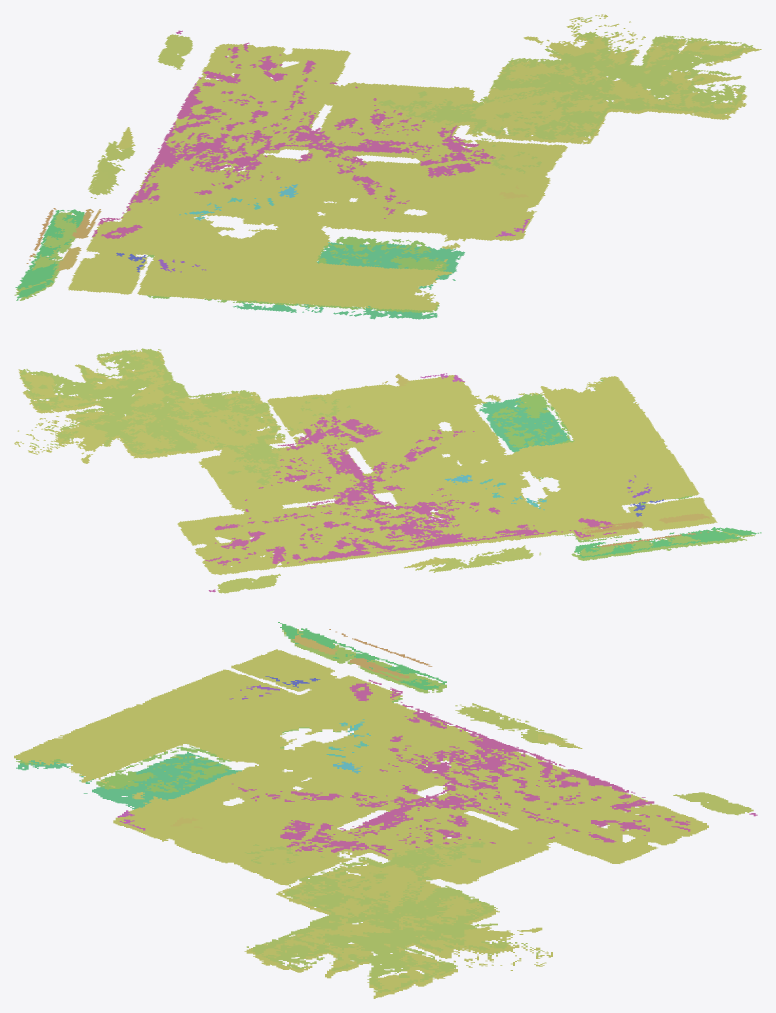
The model's file is jamsil-floor.glb.
3 views of the same model, one above another, from view 1: azimuth 30°, elevation 25°; view 2: azimuth 150°, elevation 25°; view 3: azimuth 270°, elevation 25° (orthographic). The views are drawn at different scales.
Parts seen in each view (by area): view 1: jamsil-floor; view 2: jamsil-floor; view 3: jamsil-floor.
Part boxes in pixels (x1,y1,x2,y2): jamsil-floor: (14, 14, 761, 319); jamsil-floor: (14, 348, 761, 593); jamsil-floor: (14, 622, 757, 998).
Size of the model in its own units: 5.45 by 0.2187 by 4.28.
